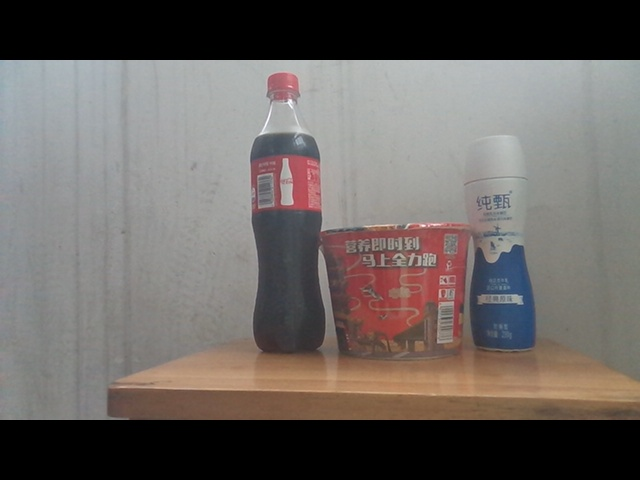cola: (250, 72, 327, 351)
kangshifu: (318, 222, 474, 359)
yogurt: (465, 134, 538, 353)
